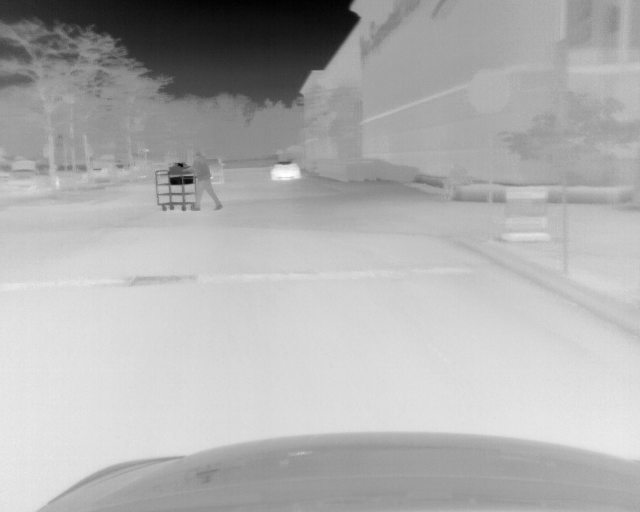car: (9, 157, 39, 196), (270, 160, 301, 180), (207, 156, 225, 184), (83, 160, 107, 178)
people: (190, 148, 223, 212)
